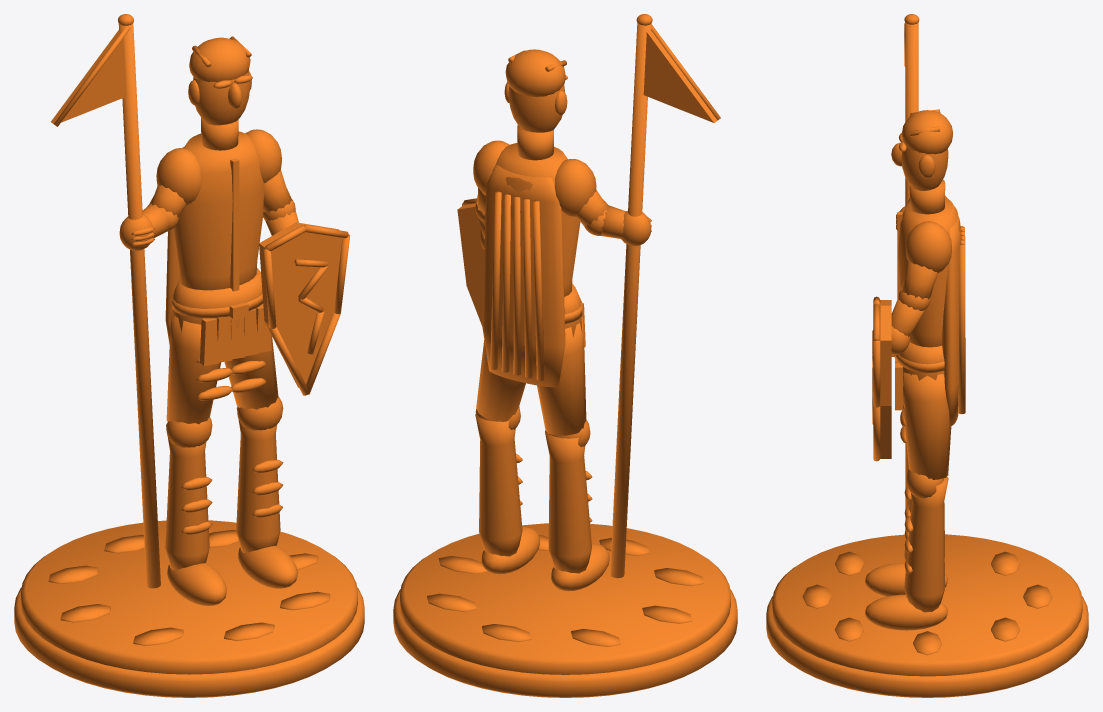
Rendered from knight-orange-level-1-bare.fbx.
The picture shows the model from 3 angles, left to right: view 1: azimuth 30°, elevation 25°; view 2: azimuth 150°, elevation 25°; view 3: azimuth 270°, elevation 25°; orthographic projection. The views are drawn at different scales.
Visible parts, largest first — view 1: Knight_Level_1_Bare_Sculpt; view 2: Knight_Level_1_Bare_Sculpt; view 3: Knight_Level_1_Bare_Sculpt.
Part boxes in pixels (x1=…): Knight_Level_1_Bare_Sculpt: x1=14, y1=14, x2=364, y2=697; Knight_Level_1_Bare_Sculpt: x1=393, y1=14, x2=737, y2=697; Knight_Level_1_Bare_Sculpt: x1=766, y1=14, x2=1088, y2=697.
Size of the model in its own units: 0.012 by 0.024 by 0.012.
